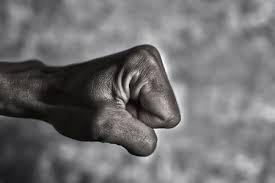rock: (48, 38, 191, 162)
